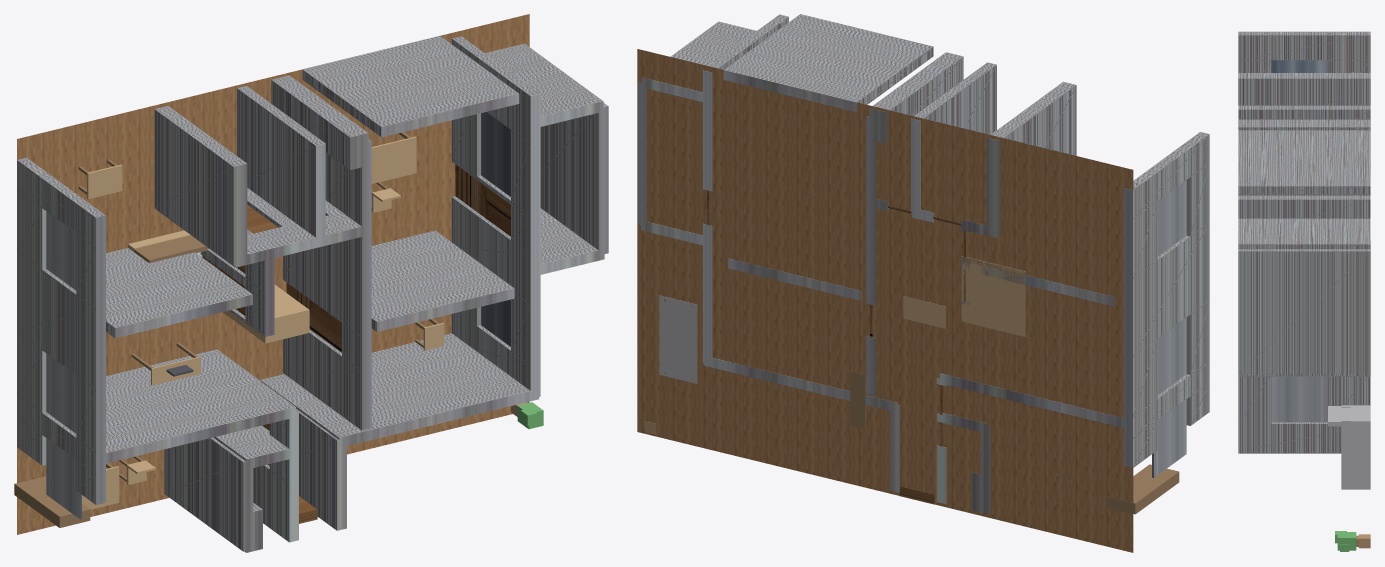
File: 3_interior.gltf
The picture shows the model from 3 angles, left to right: view 1: azimuth 30°, elevation 25°; view 2: azimuth 150°, elevation 25°; view 3: azimuth 270°, elevation 25°; orthographic projection. The views are drawn at different scales.
Visible parts, largest first — view 1: WallMesh, Floor, WindowMesh, DoorMesh, Furniture_5, Furniture_7, Furniture_11, Furniture_4, Furniture_6, Furniture_12, Furniture_9; view 2: Floor, WallMesh, WindowMesh, Furniture_4, Furniture_0, Furniture_11, DoorMesh, Furniture_5, Furniture_2; view 3: WallMesh, WindowMesh, Furniture_0, Furniture_3.
Part boxes in pixels (x1=…): WallMesh: x1=17, y1=35, x2=608, y2=552; Floor: x1=17, y1=14, x2=529, y2=534; WindowMesh: x1=46, y1=112, x2=510, y2=519; DoorMesh: x1=202, y1=164, x2=510, y2=523; Furniture_5: x1=223, y1=284, x2=309, y2=343; Furniture_7: x1=371, y1=132, x2=416, y2=183; Furniture_11: x1=14, y1=476, x2=90, y2=527; Furniture_4: x1=128, y1=230, x2=209, y2=263; Furniture_6: x1=131, y1=342, x2=200, y2=385; Furniture_12: x1=78, y1=159, x2=122, y2=199; Furniture_9: x1=82, y1=463, x2=119, y2=509; Floor: x1=637, y1=49, x2=1133, y2=552; WallMesh: x1=637, y1=14, x2=1209, y2=514; WindowMesh: x1=1152, y1=180, x2=1186, y2=477; Furniture_4: x1=961, y1=256, x2=1025, y2=336; Furniture_0: x1=659, y1=295, x2=697, y2=383; Furniture_11: x1=1106, y1=464, x2=1179, y2=514; DoorMesh: x1=706, y1=190, x2=966, y2=504; Furniture_5: x1=903, y1=296, x2=945, y2=328; Furniture_2: x1=850, y1=371, x2=865, y2=429; WallMesh: x1=1238, y1=31, x2=1370, y2=453; WindowMesh: x1=1271, y1=60, x2=1327, y2=422; Furniture_0: x1=1328, y1=405, x2=1370, y2=489; Furniture_3: x1=1335, y1=531, x2=1370, y2=551.
Bounding box in the file's own units: 10.52 × 7.75 × 2.8.
18 materials, 4 textured.
